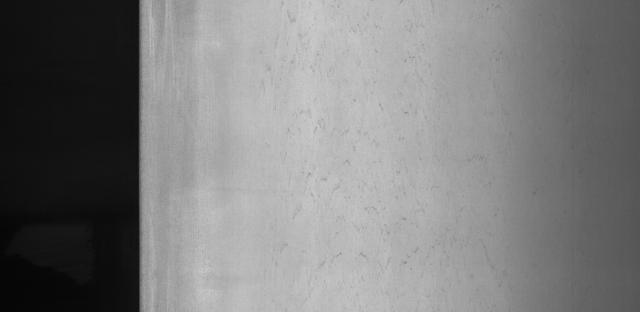silk_spot: (269, 5, 513, 304)
